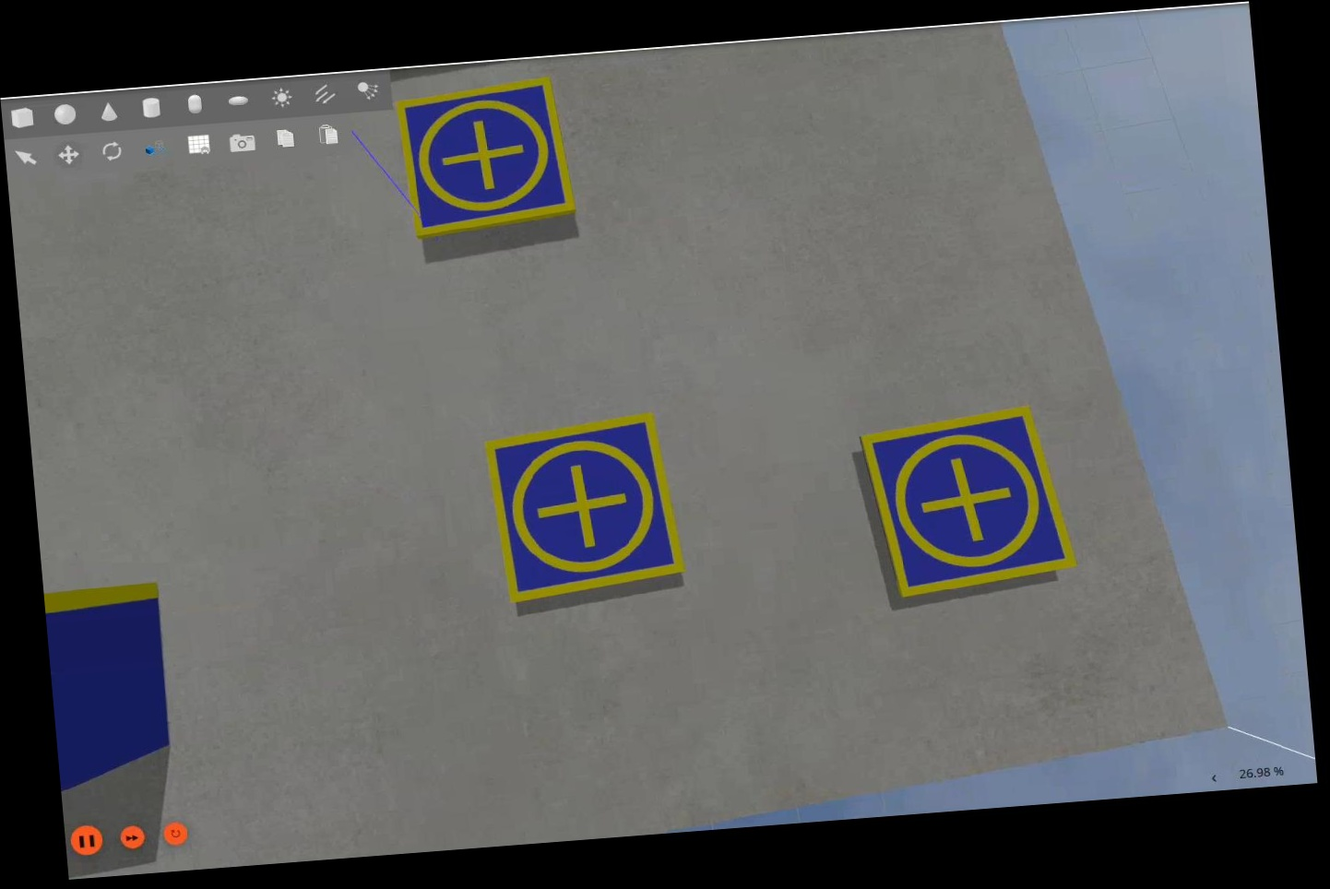small_base: (857, 403, 1082, 600), (482, 409, 691, 606), (394, 77, 580, 241)
